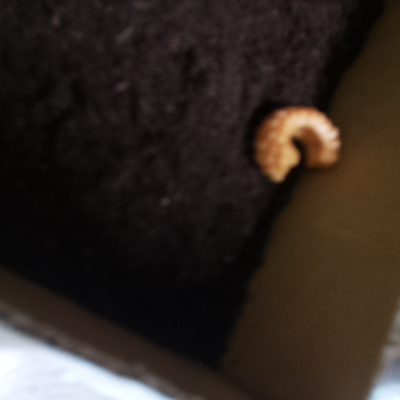eggs: (249, 102, 348, 188)
